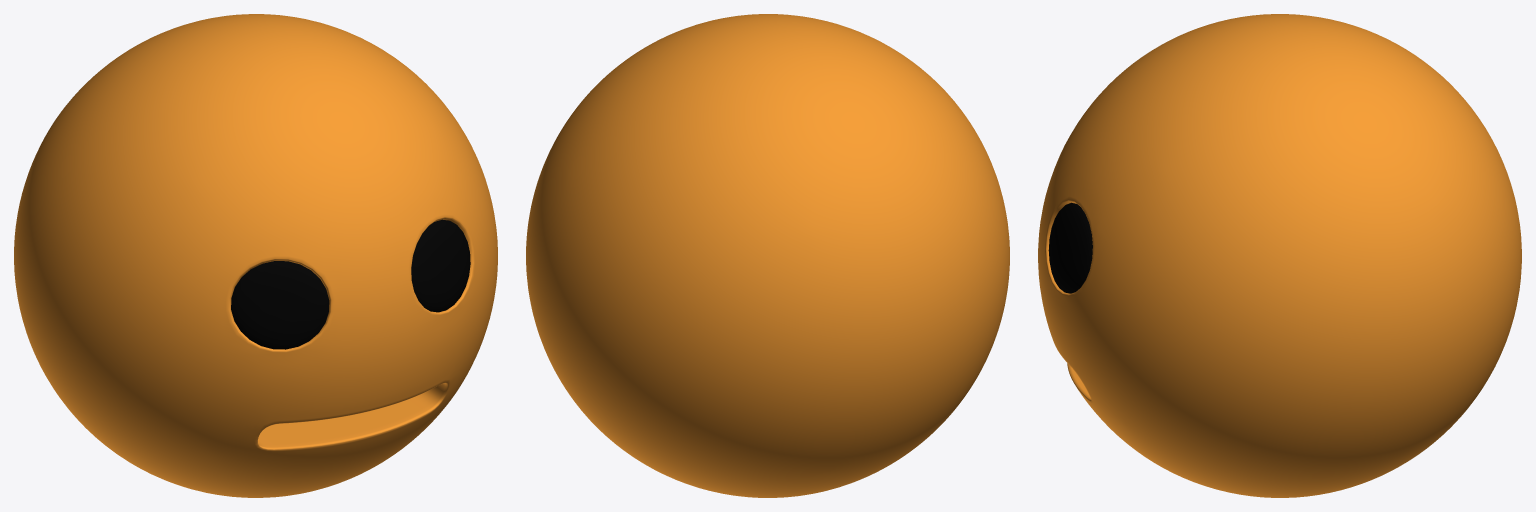
File: neutral.glb
3 views of the same model, side by side, from view 1: azimuth 30°, elevation 25°; view 2: azimuth 150°, elevation 25°; view 3: azimuth 270°, elevation 25° (orthographic).
Parts seen in each view (by area): view 1: Object_2; view 2: Object_2; view 3: Object_2.
Boxes of the visible parts, bbox=[...] form: Object_2: bbox=[14, 14, 497, 497]; Object_2: bbox=[526, 14, 1009, 497]; Object_2: bbox=[1038, 14, 1521, 497].
Size of the model in its own units: 19.52 by 19.52 by 19.52.
1 material, 1 textured.
